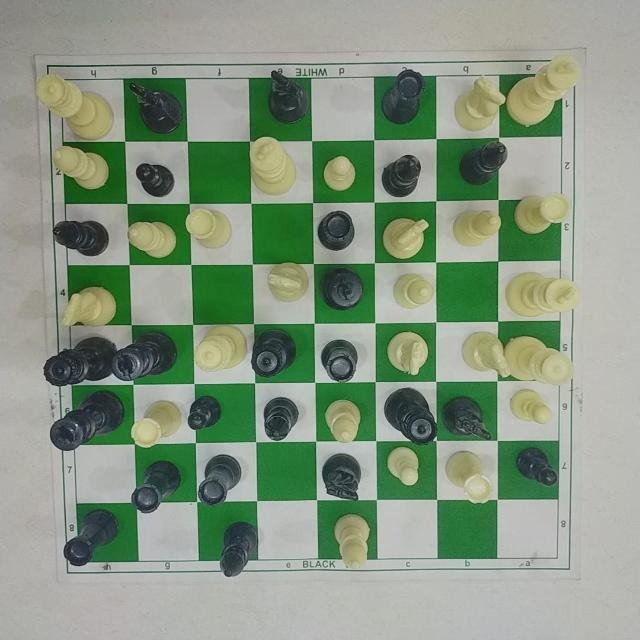black-bishop: (47, 215, 112, 264), (216, 516, 264, 578), (459, 140, 511, 188), (260, 393, 303, 448), (382, 149, 424, 201)
black-king: (41, 392, 127, 458), (110, 329, 181, 384), (321, 263, 369, 315)
black-knight: (130, 75, 188, 136), (264, 66, 312, 130), (444, 393, 498, 446), (321, 450, 369, 506)
black-pawn: (509, 442, 564, 492), (130, 155, 182, 198), (187, 394, 227, 436)
black-queen: (384, 385, 443, 449), (41, 336, 111, 386), (250, 326, 296, 382)
black-rook: (57, 508, 126, 566), (378, 63, 427, 131), (197, 449, 249, 507), (132, 457, 186, 512), (318, 338, 362, 389), (316, 206, 363, 251)
white-bishop: (48, 143, 110, 191), (121, 214, 182, 259), (330, 512, 377, 570), (450, 207, 505, 252), (389, 268, 438, 315), (321, 399, 371, 445)
white-king: (510, 52, 582, 135), (504, 264, 582, 320), (245, 133, 300, 197)
white-knight: (454, 71, 506, 132), (61, 281, 125, 330), (263, 252, 315, 309), (461, 326, 513, 382), (380, 211, 432, 262), (384, 326, 432, 378)
white-pawn: (318, 149, 365, 195), (506, 386, 554, 426), (385, 443, 424, 491)
white-queen: (34, 72, 118, 140), (507, 331, 577, 387), (190, 325, 248, 375)
white-rook: (445, 450, 497, 508), (130, 395, 186, 446), (513, 192, 571, 237), (186, 204, 233, 253)
